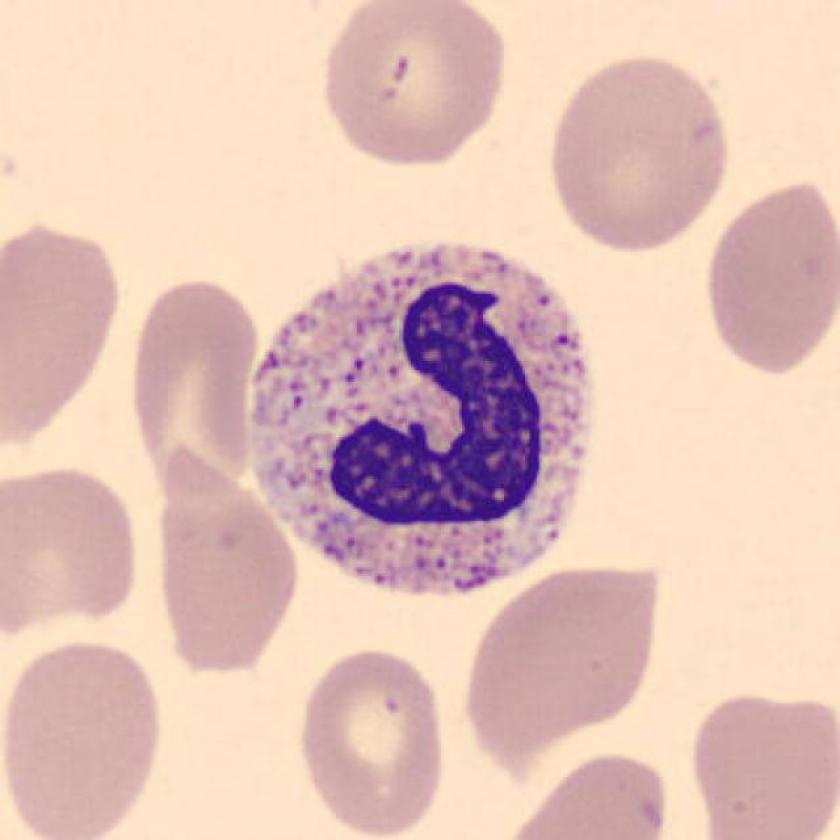neutrophil: (248, 246, 593, 593)
